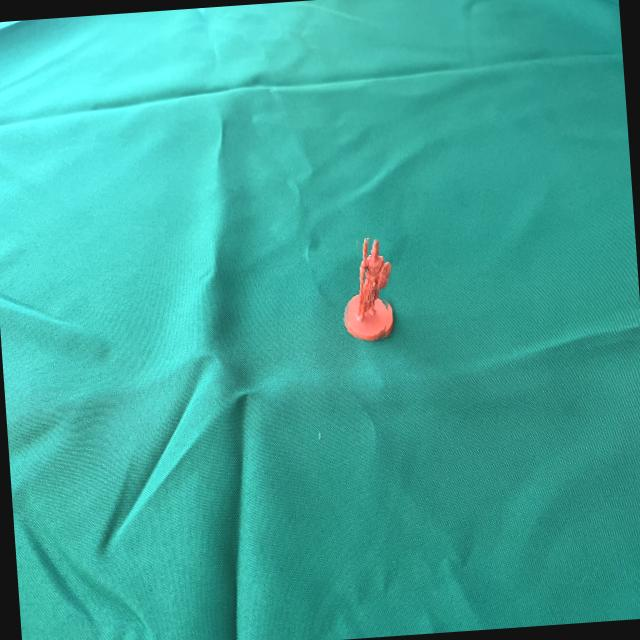amon_follower: (343, 238, 392, 341)
